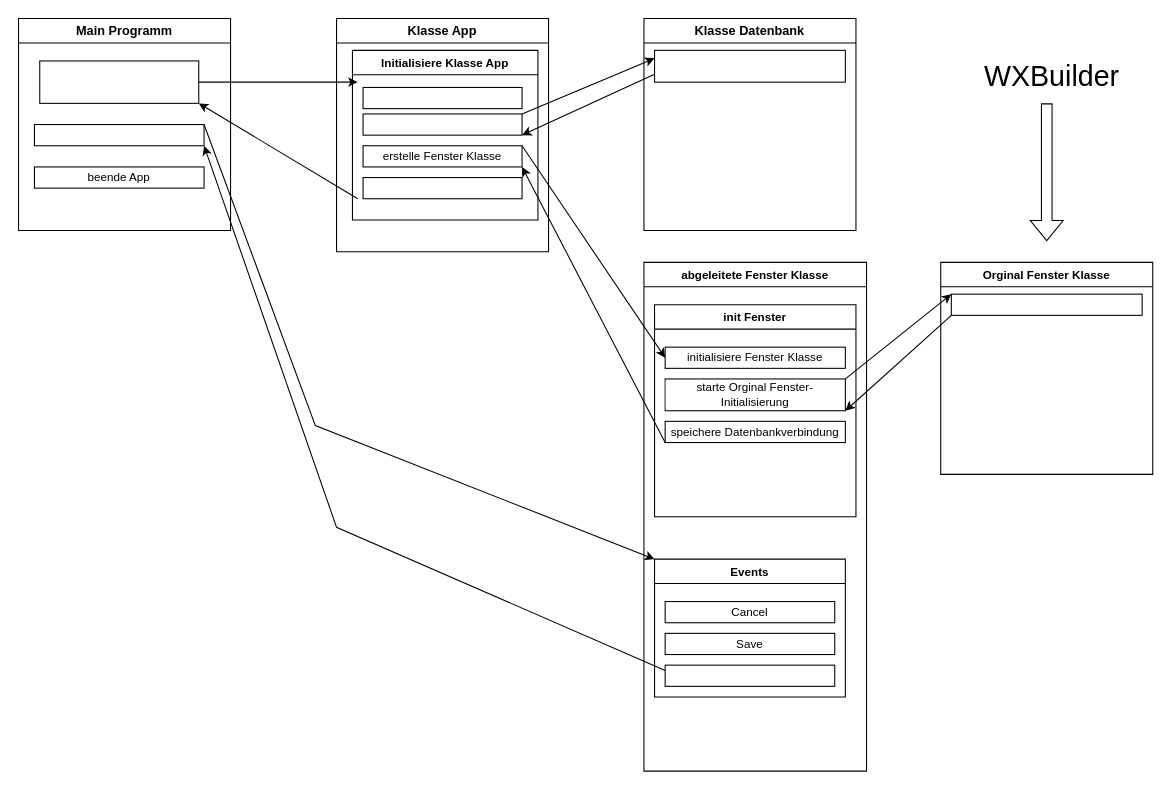
The diagram is 1171 pixels wide and 790 high, and some of its shapes have lost their labels. Each missing label, with the centre of its shape:
"erstellt Datenbank Klasse" goes at point (442, 124).
"erzeugt App" goes at point (119, 81).
"initialisiere Orginal Fenster" goes at point (1046, 304).
"Initialisiert App" goes at point (442, 97).
"initialisiert Datenbank" goes at point (749, 65).
"Schließe Fenster" goes at point (749, 675).
"verarbeite Events" goes at point (118, 134).
"zeige Fenster an" goes at point (442, 187).
